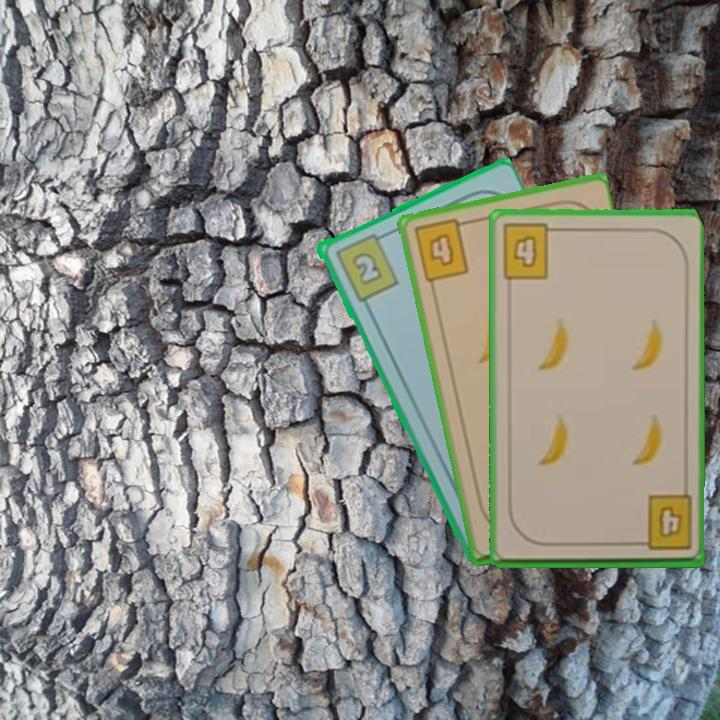2b: (330, 229, 401, 304)
4b: (410, 216, 472, 285), (630, 492, 695, 554), (498, 221, 562, 282)
